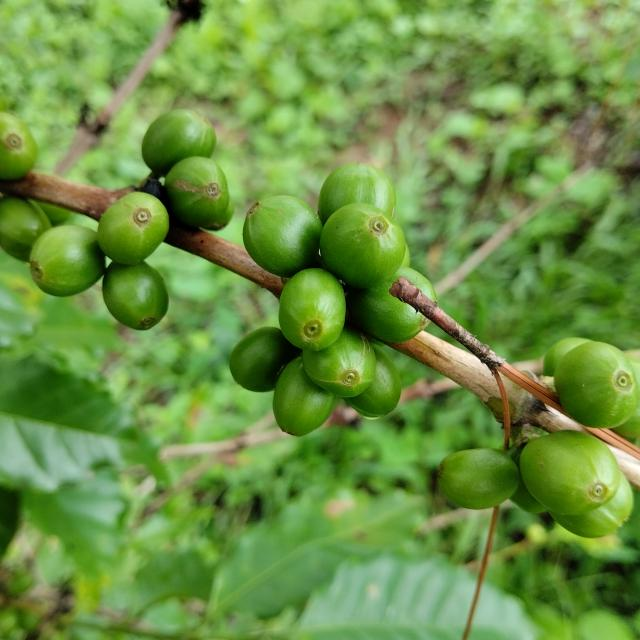green: (521, 431, 623, 516), (555, 342, 640, 429), (320, 203, 406, 288), (347, 266, 437, 343), (242, 195, 323, 278), (279, 268, 346, 351), (29, 225, 105, 297), (549, 475, 634, 539), (97, 191, 169, 265), (302, 326, 376, 398), (273, 357, 336, 437), (438, 449, 520, 510), (141, 109, 216, 175), (318, 161, 396, 224), (164, 156, 229, 227), (229, 327, 300, 392), (102, 261, 168, 330), (344, 345, 402, 418), (544, 338, 593, 377), (202, 198, 234, 231), (612, 402, 640, 439), (630, 358, 640, 389)
